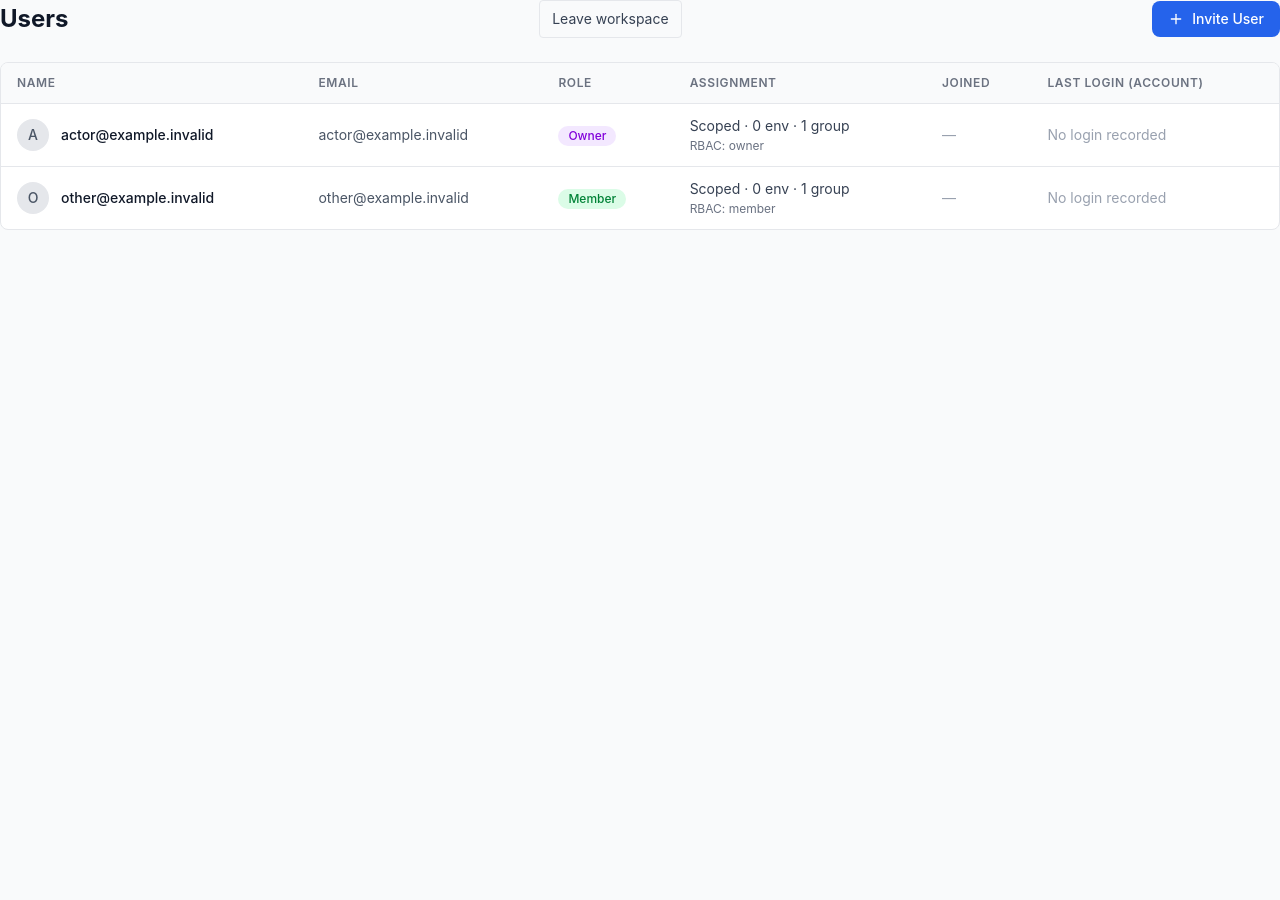
Scenario: scoped Users controls › uses the permitted active group and resets an excessive role after a scope change
Click the button "Invite User".
click(1216, 19)  # box [1152,1,1279,37]
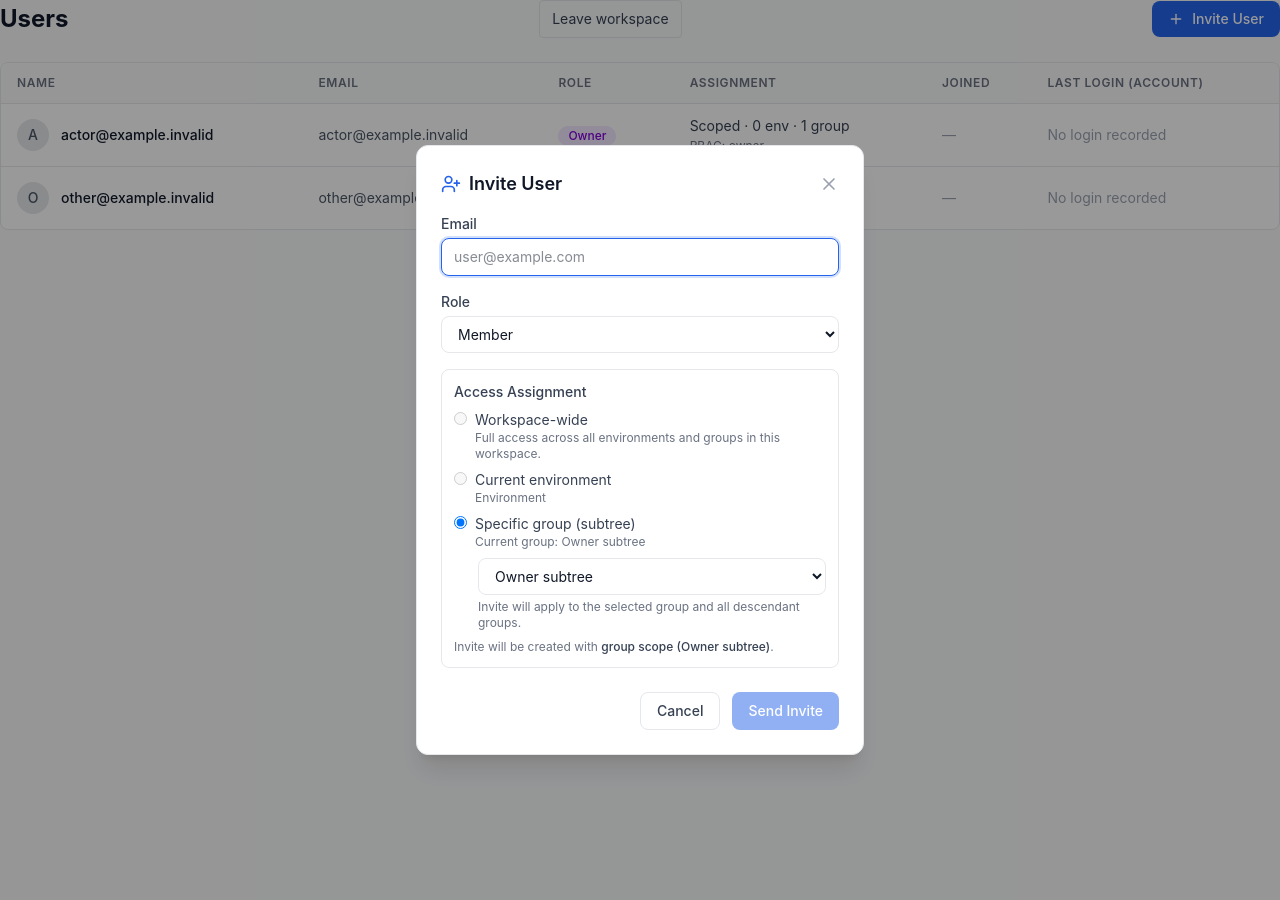
Expected: the dropdown named "Invite group" shows "Owner subtree", [478,558,826,595]
Select "Owner" in the dropdown labelled "Role" at [640, 334], box [441,316,839,353]
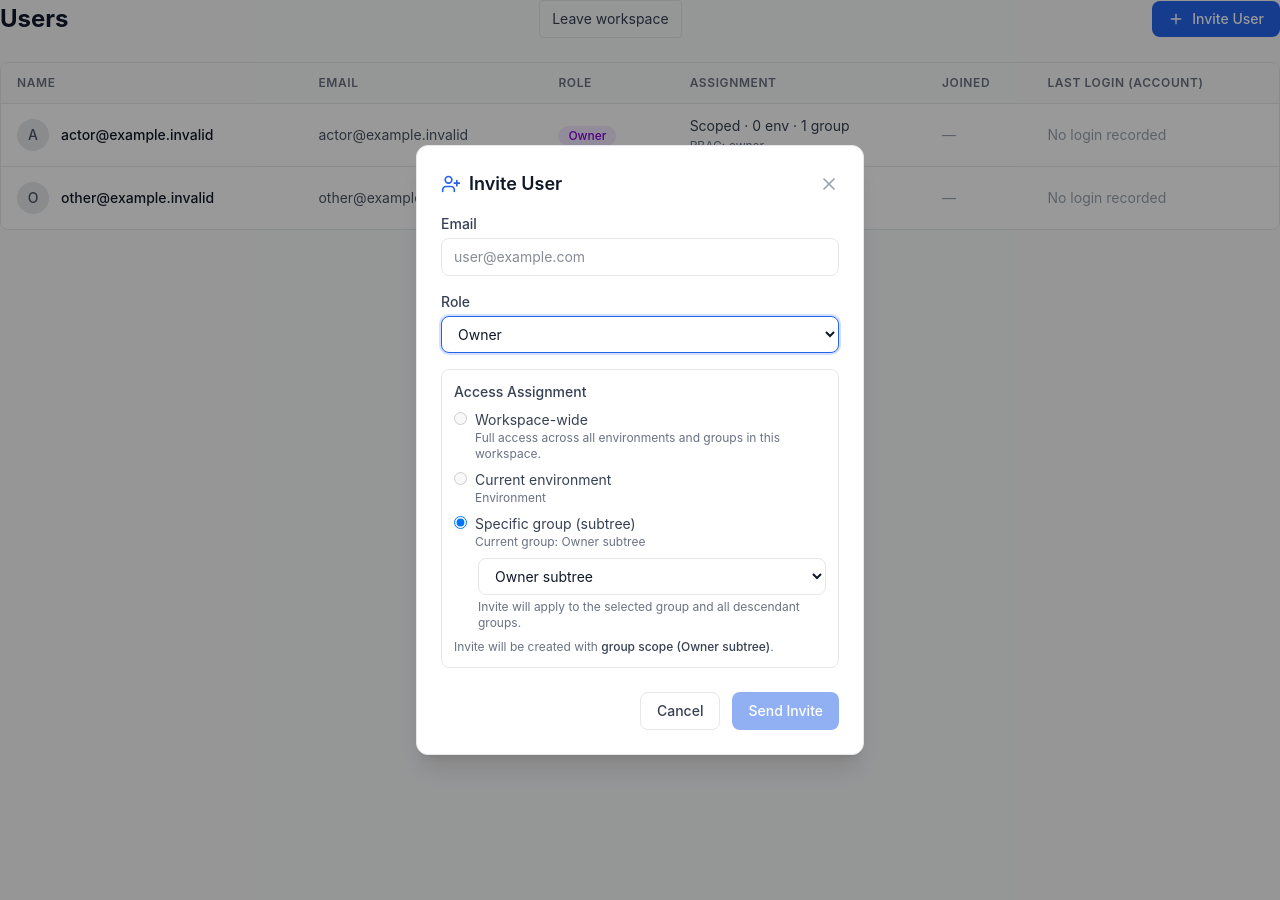
Select "Admin parent" in the dropdown named "Invite group" at [652, 576], box [478,558,826,595]
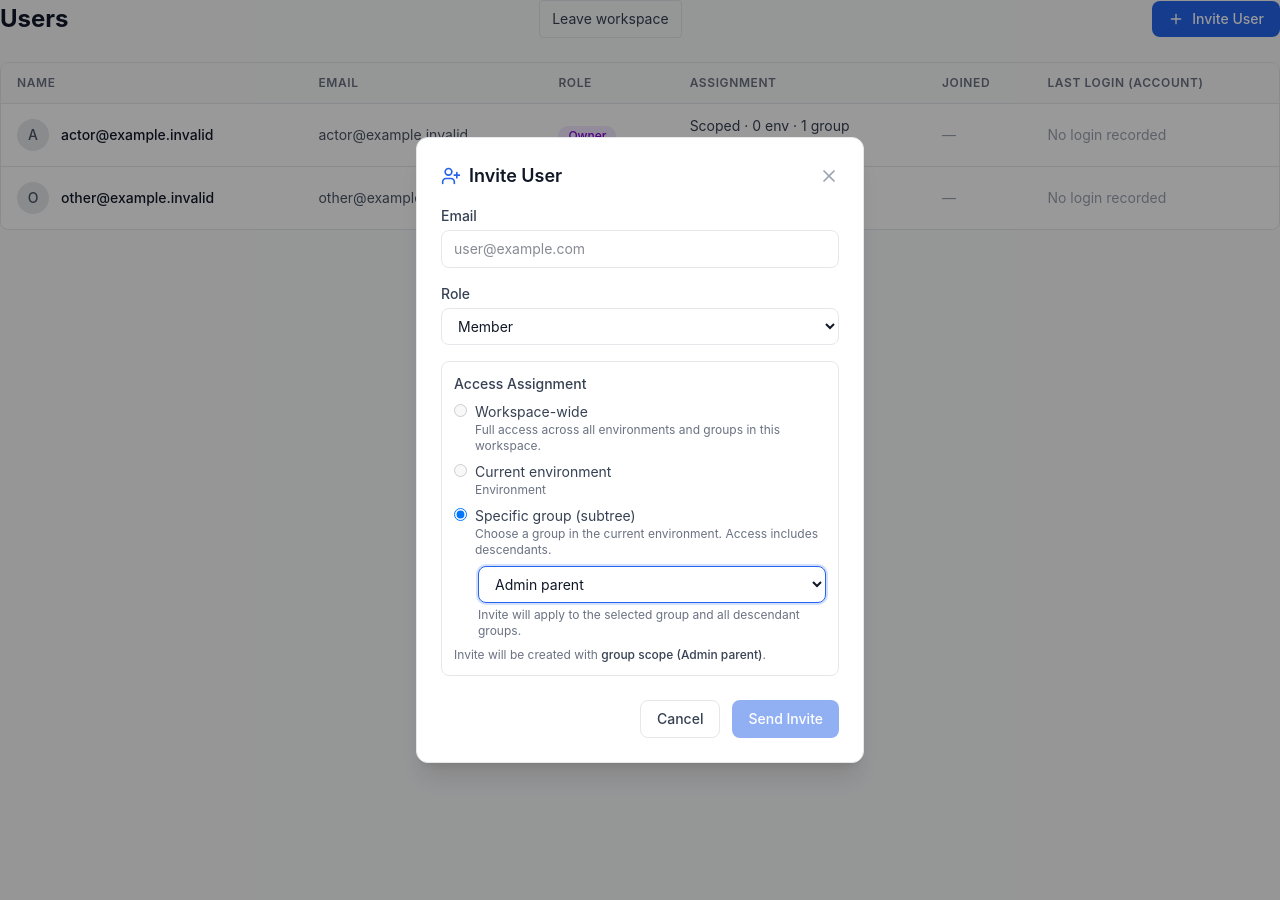
Press Escape
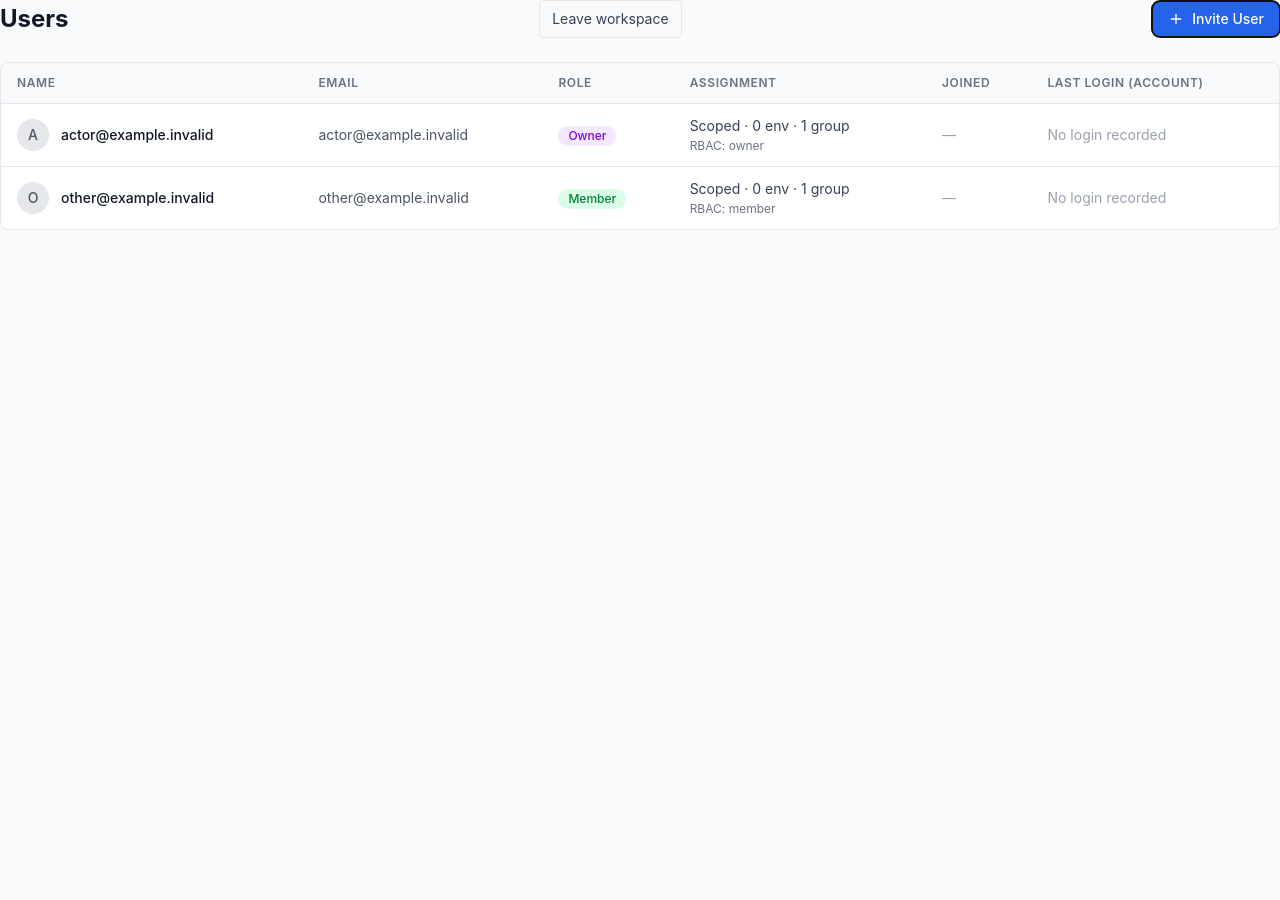
Expected: the dialog is gone
